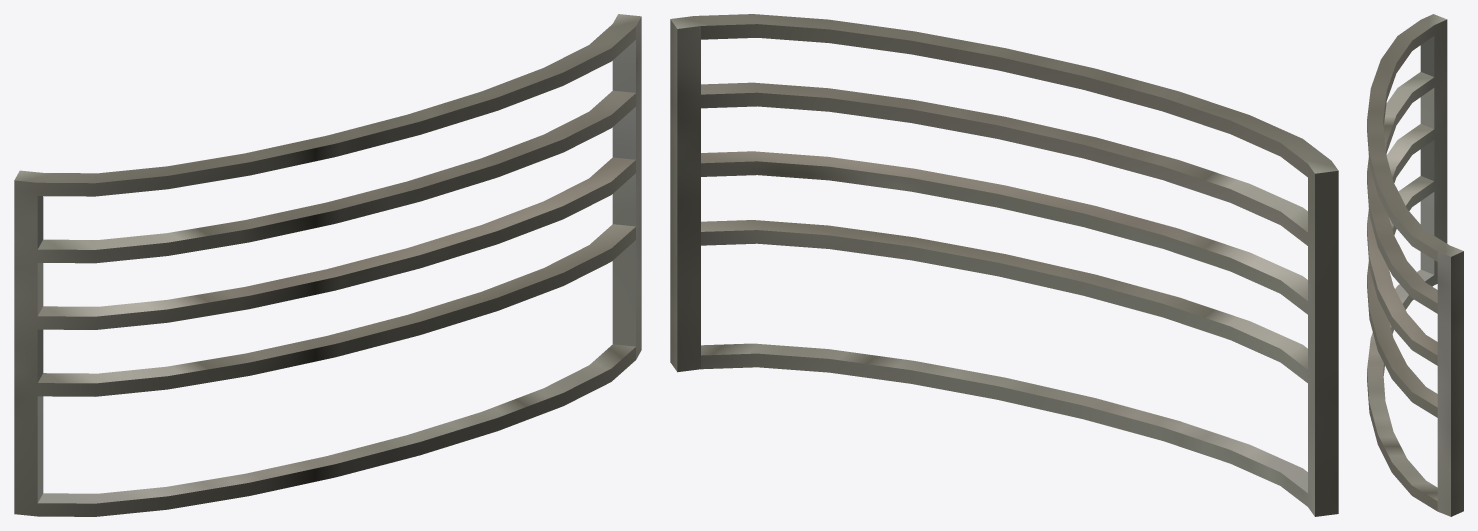
File: Varandal2.fbx
The picture shows the model from 3 angles, left to right: view 1: azimuth 30°, elevation 25°; view 2: azimuth 150°, elevation 25°; view 3: azimuth 270°, elevation 25°; orthographic projection. The views are drawn at different scales.
Visible parts, largest first — view 1: Mesh (9).002; view 2: Mesh (9).002; view 3: Mesh (9).002.
Boxes of the visible parts, x1,y1,x2,y2 form: Mesh (9).002: (14, 14, 641, 516); Mesh (9).002: (670, 14, 1338, 516); Mesh (9).002: (1367, 14, 1463, 516).
Size of the model in its own units: 156 by 78.11 by 26.39.
1 material, 1 textured.
